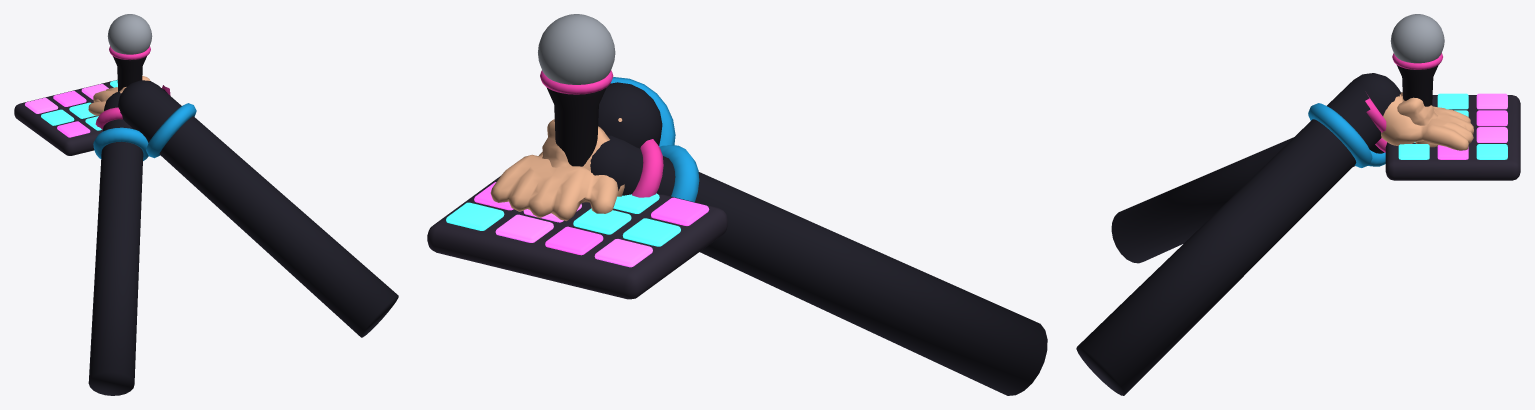
3 views of the same model, side by side, from view 1: azimuth 30°, elevation 25°; view 2: azimuth 150°, elevation 25°; view 3: azimuth 270°, elevation 25° (orthographic). The views are drawn at different scales.
Parts seen in each view (by area): view 1: R, L; view 2: L, R; view 3: R, L.
Part boxes in pixels (x1,y1,x2,y2): R: (14,80,398,337); L: (88,14,152,395); L: (538,14,1047,395); R: (427,77,727,299); R: (1076,73,1520,395); L: (1111,14,1444,263).
Size of the model in its own units: 0.5829 by 0.501 by 0.6259.
